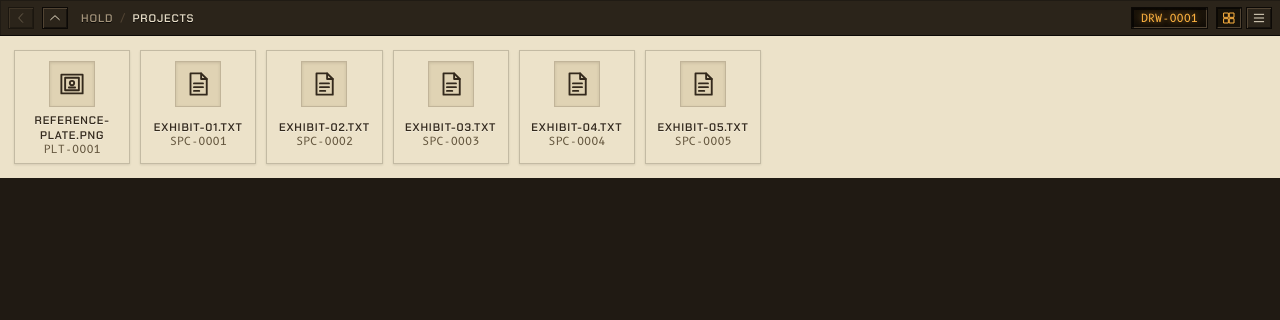
it: AP-1 · context menus reuse the platform shell + builders › specimen rows ARE the platform builder output — identical items, no fork
The width and height of the screenshot is (1280, 320).
Right-click the option "exhibit-01.txt SPC-0001".
right_click(198, 107)  # box [140,50,256,164]
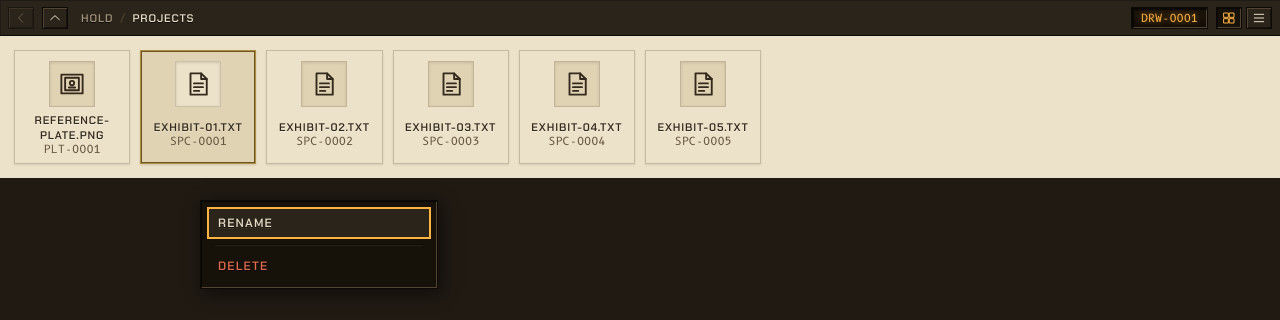
Check: the menu item "Rename" is shown, box [207,207,431,239]
Check: the menu item "Delete" is shown
Click the menu item "Delete".
click(319, 266)  # box [207,250,431,282]
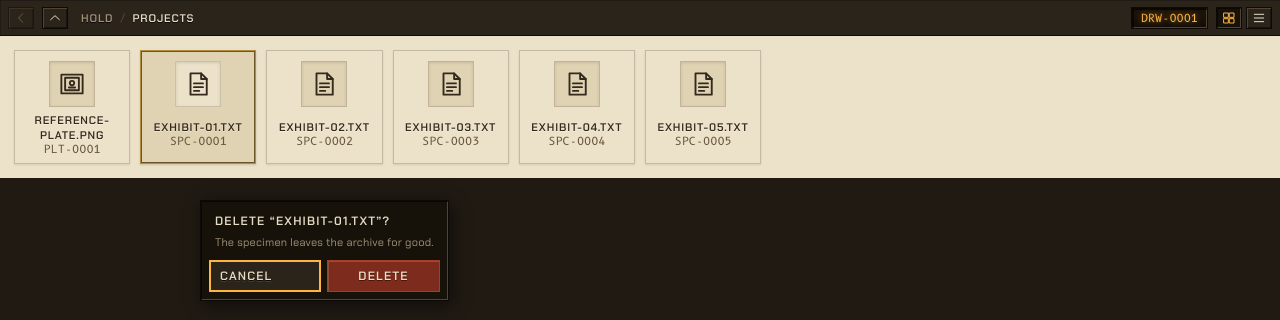
Check: the menu shows "Delete “exhibit-01.txt”?", box [215,213,390,229]
Check: the menu shows "The specimen leaves the archive for good.", box [215,235,434,249]
